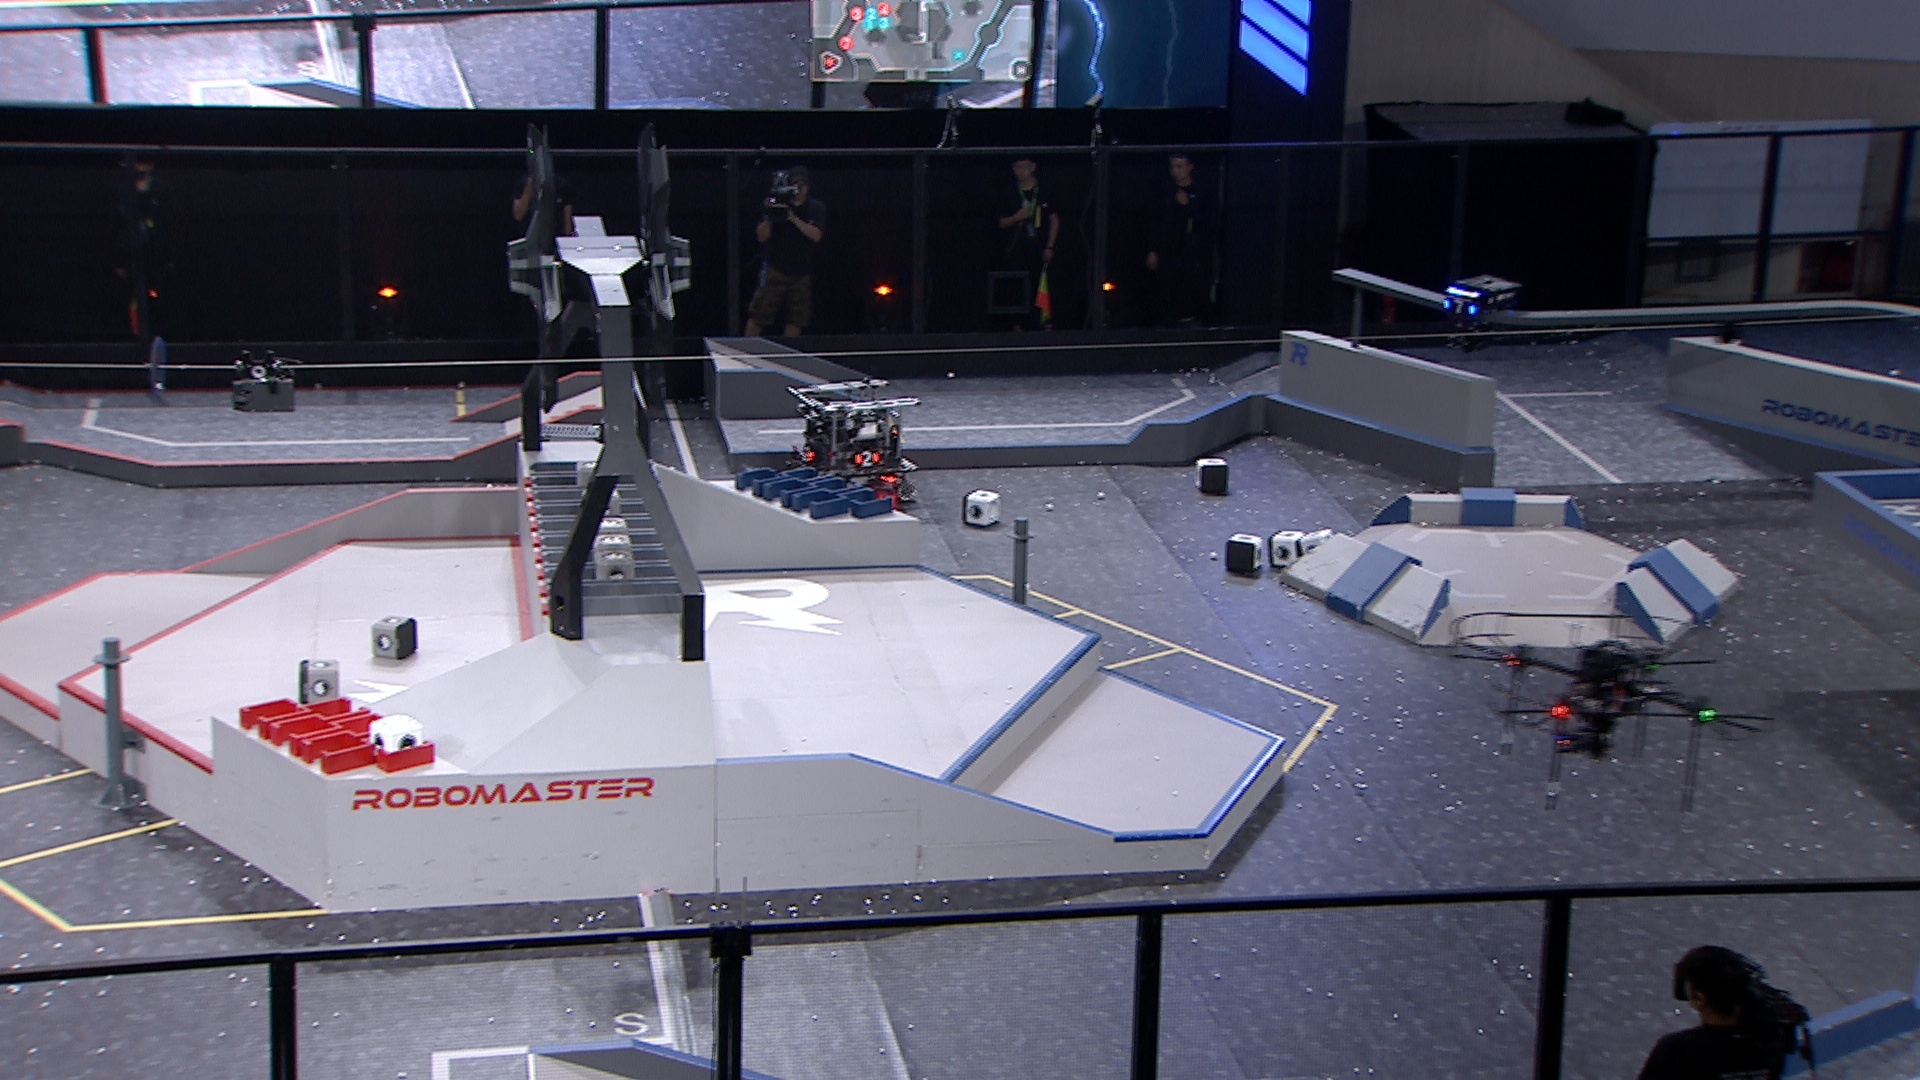armor: (1439, 297, 1477, 318), (852, 451, 880, 469), (798, 446, 818, 465)
car: (783, 373, 918, 501)
watcher: (1437, 276, 1518, 351)
